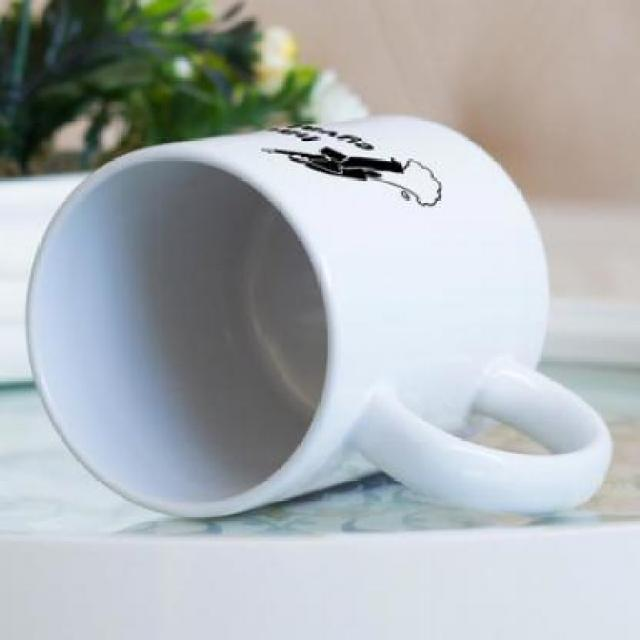taza: (14, 103, 624, 526)
